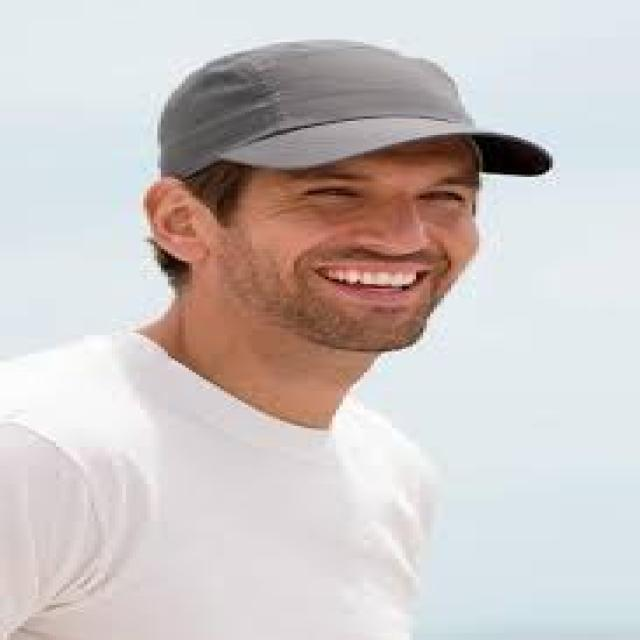cap: (130, 18, 588, 221)
